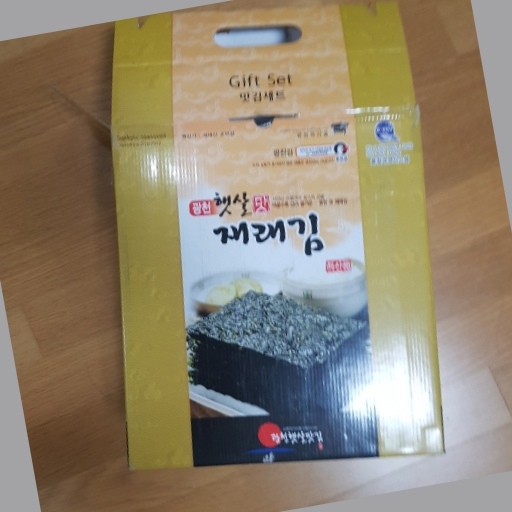Paper_0: (98, 1, 460, 471)
